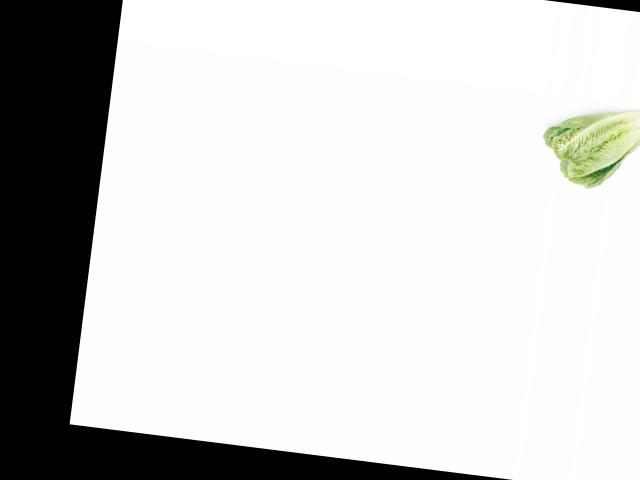lettuce: (538, 95, 640, 195)
